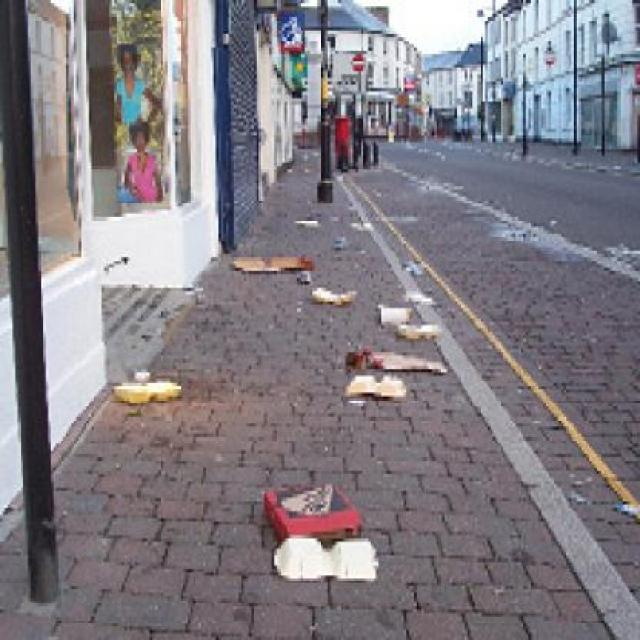garbage: (265, 482, 382, 574), (339, 339, 466, 404), (113, 356, 179, 410), (223, 245, 319, 272), (377, 299, 443, 333), (303, 279, 362, 306), (290, 208, 323, 228), (328, 231, 348, 255), (405, 254, 422, 278)
